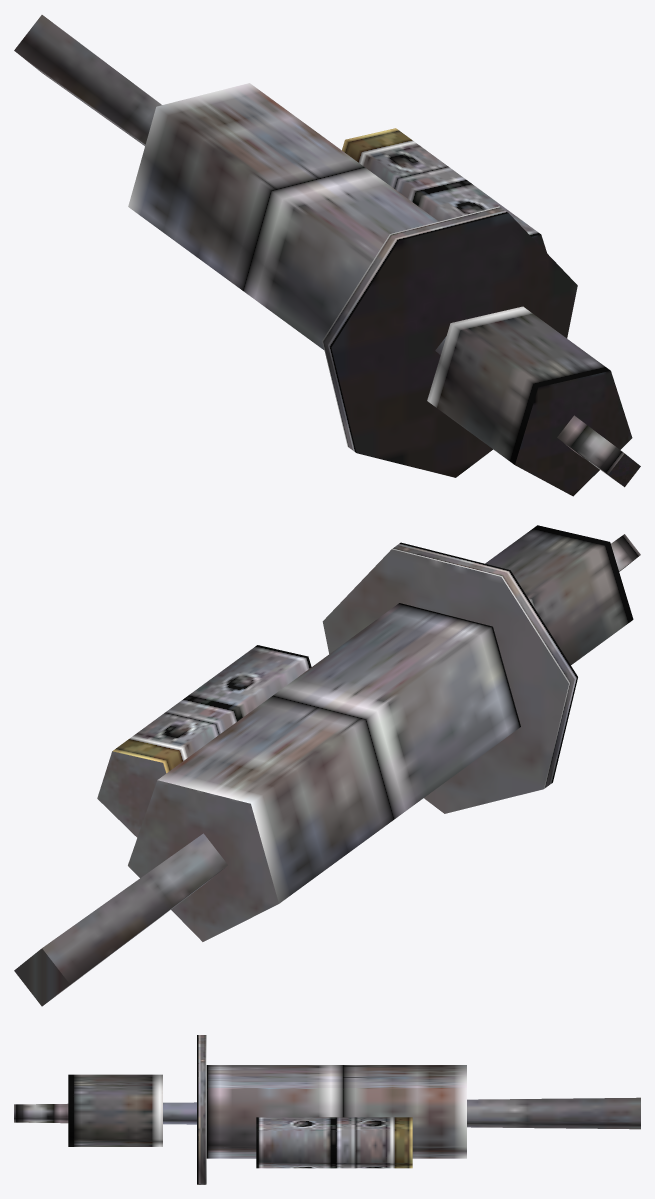
Rendered from eqp_tool_impulse_detector_s3_l2.fbx.
3 views of the same model, one above another, from view 1: azimuth 30°, elevation 25°; view 2: azimuth 150°, elevation 25°; view 3: azimuth 270°, elevation 25° (orthographic). The views are drawn at different scales.
Visible parts, largest first — view 1: mesh_node; view 2: mesh_node; view 3: mesh_node.
Boxes of the visible parts, box(x1,y1,x2,y2) form: mesh_node: box(14, 15, 640, 496); mesh_node: box(14, 525, 640, 1006); mesh_node: box(14, 1035, 640, 1184).
Bounding box in the file's own units: 0.2708 × 0.2325 × 0.9749.
